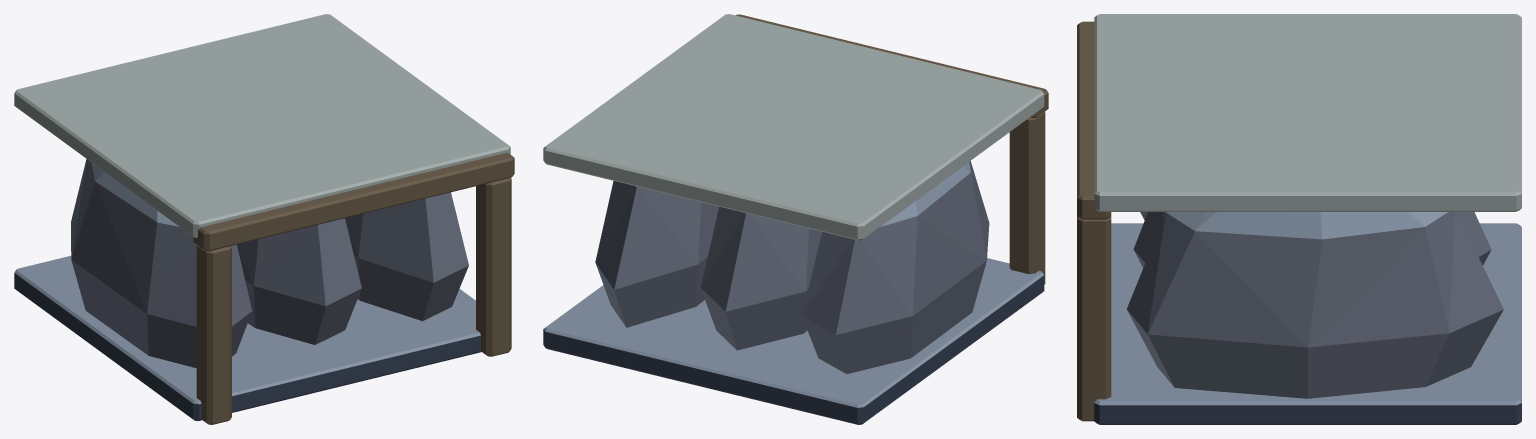
Rendered from platform.glb.
3 views of the same model, side by side, from view 1: azimuth 30°, elevation 25°; view 2: azimuth 150°, elevation 25°; view 3: azimuth 270°, elevation 25° (orthographic). The views are drawn at different scales.
Parts seen in each view (by area): view 1: platform__body; view 2: platform__body; view 3: platform__body.
Part boxes in pixels (box(x1,y1,x2,y2)): platform__body: box(14, 14, 514, 424); platform__body: box(543, 14, 1048, 424); platform__body: box(1077, 14, 1521, 424).
Bounding box in the file's own units: 2.01 × 1.2 × 2.08.
